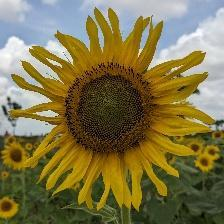sunflower: (9, 7, 217, 214)
